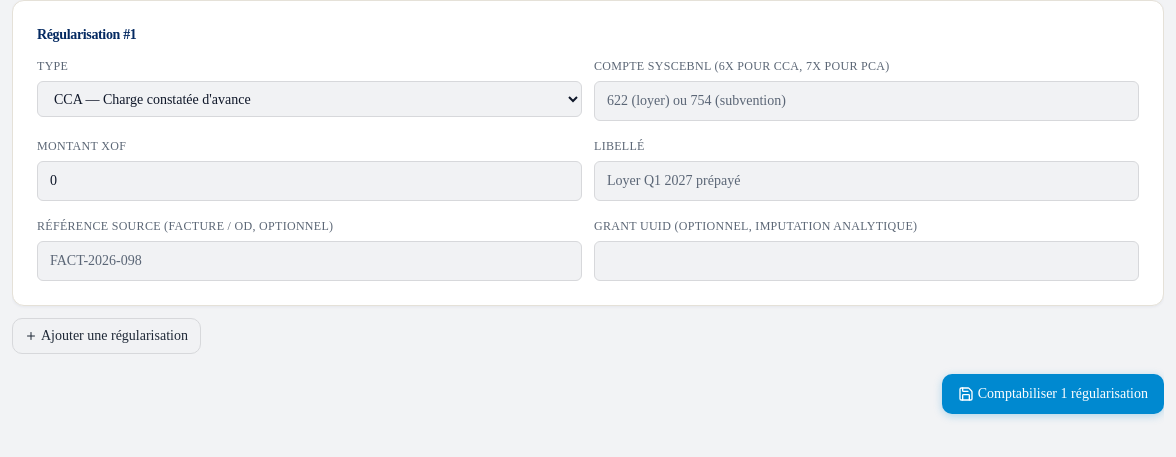
PrepaymentsForm › libellé < 3 caractères → erreur de validation Zod, pas de submit
In the field with test id "prepayment-account-0": (866,101) top-left (594, 81), bottom-right (1139, 121), type "622"
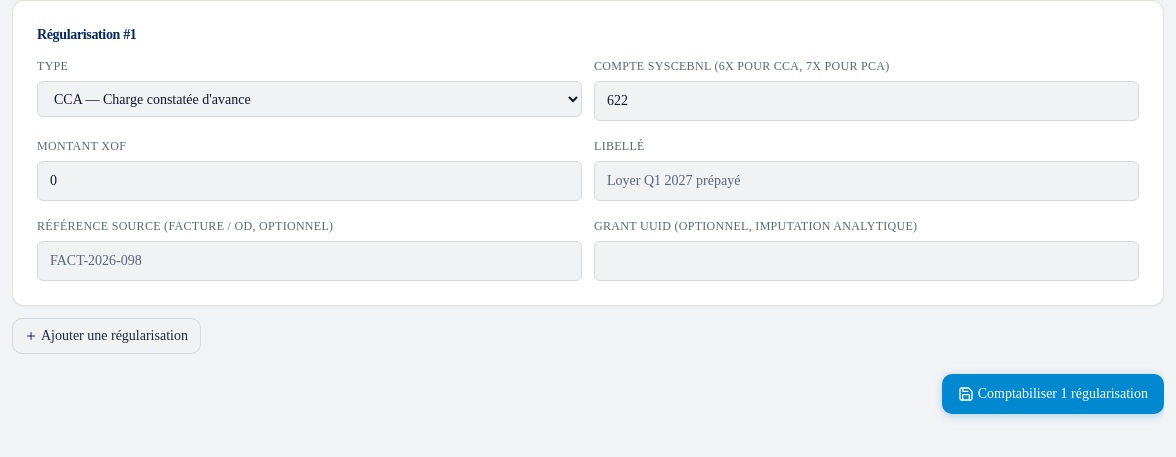
Replace the text in the number field with test id "prepayment-amount-0" with "100": (310,181) top-left (37, 161), bottom-right (582, 201)
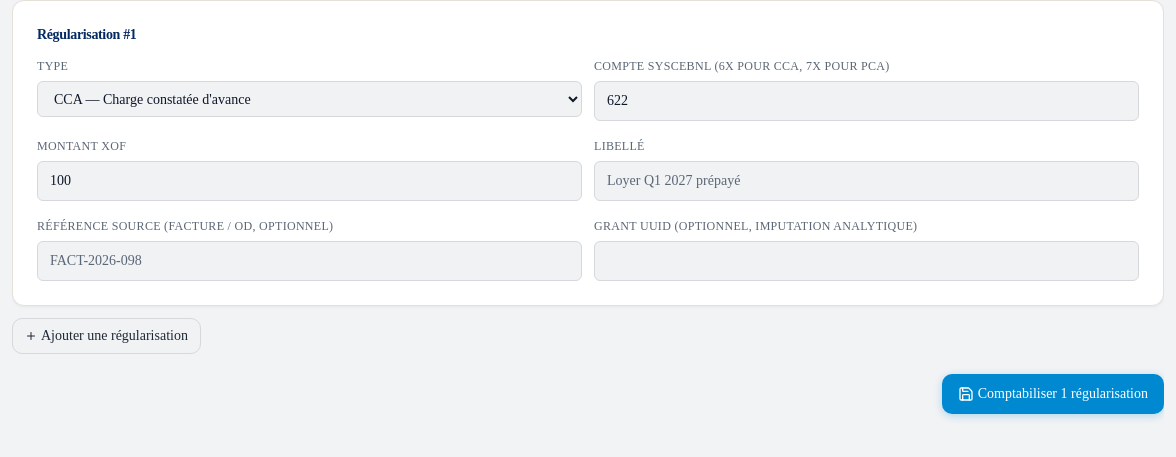
In the field with test id "prepayment-label-0": (866,181) top-left (594, 161), bottom-right (1139, 201), type "OK"
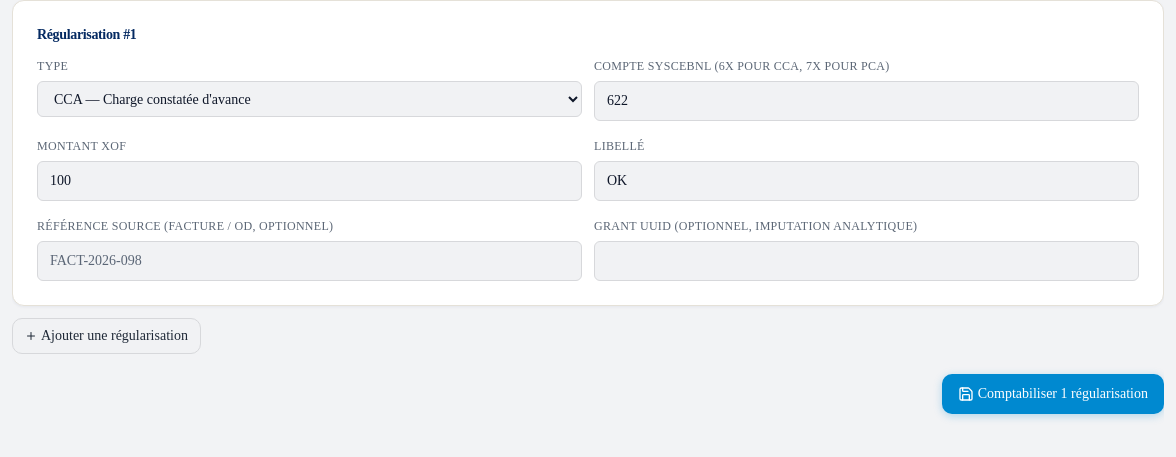
Click the button with test id "prepayments-submit": (1053,394) top-left (942, 374), bottom-right (1164, 414)
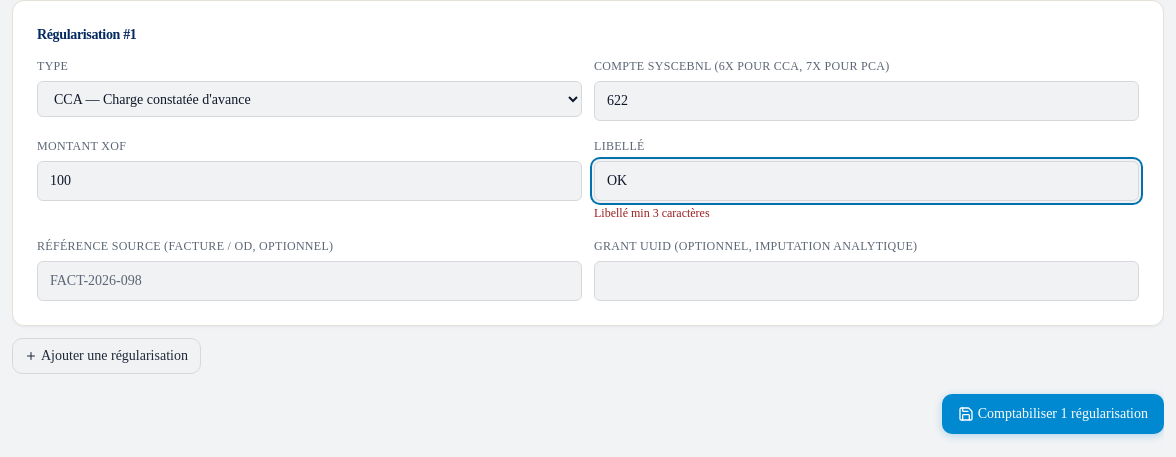
Expected: the text "Libellé min 3 caractères" is shown, top-left (594, 206), bottom-right (710, 220)
